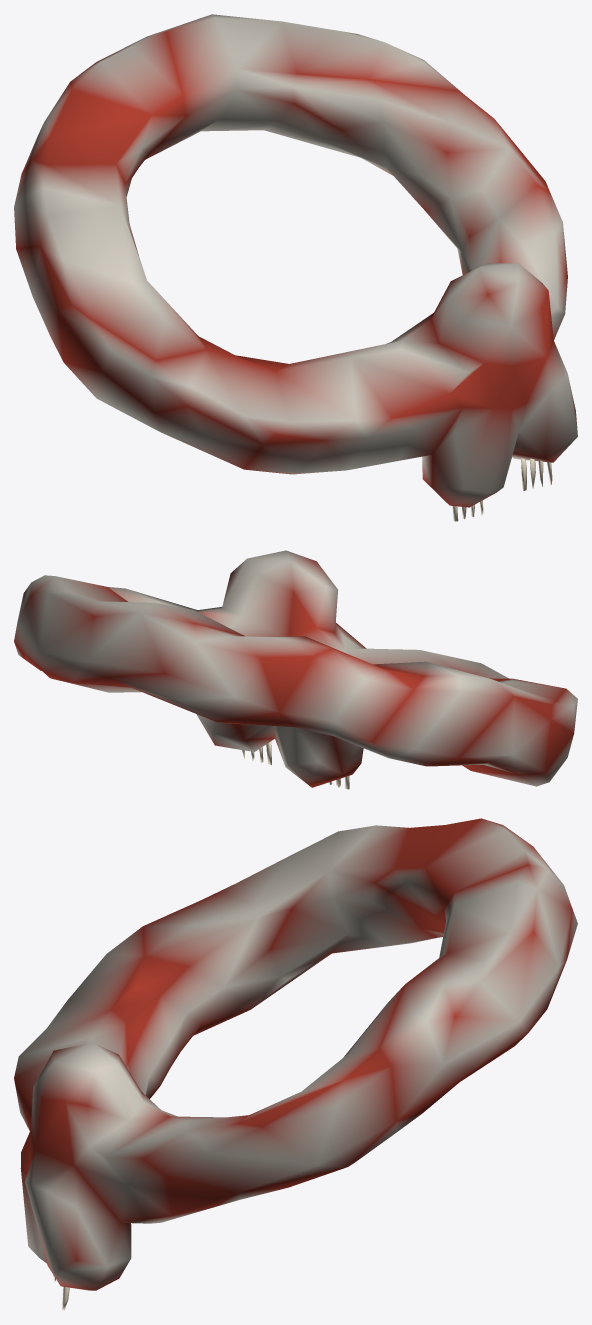
The model's file is khanlen.glb.
3 renders of one model, top to bottom at view 1: azimuth 30°, elevation 25°; view 2: azimuth 150°, elevation 25°; view 3: azimuth 270°, elevation 25°, orthographic. The views are drawn at different scales.
Visible parts, largest first — view 1: Khan_Len, Tua_Khan; view 2: Khan_Len, Tua_Khan; view 3: Khan_Len.
Part boxes in pixels (left/top/right/bottom): Khan_Len: left=14, top=14, right=577, bottom=507; Tua_Khan: left=452, top=458, right=552, bottom=521; Khan_Len: left=14, top=550, right=577, bottom=787; Tua_Khan: left=242, top=741, right=349, bottom=789; Khan_Len: left=14, top=818, right=577, bottom=1290.
Bounding box in the file's own units: 0.2811 × 0.1932 × 0.2631.
